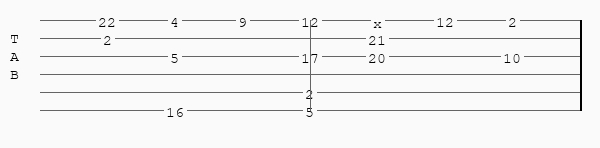10: (503, 50, 525, 63)
12: (301, 14, 323, 27), (436, 14, 458, 27)
16: (166, 104, 188, 117)
17: (301, 50, 323, 63)
2: (103, 32, 116, 45), (305, 86, 318, 99), (508, 14, 521, 27)
20: (368, 50, 390, 63)
21: (368, 32, 390, 45)
22: (98, 14, 120, 27)
4: (170, 14, 183, 27)
5: (170, 50, 183, 63), (305, 104, 318, 117)
9: (238, 14, 251, 27)
x: (373, 15, 386, 25)
